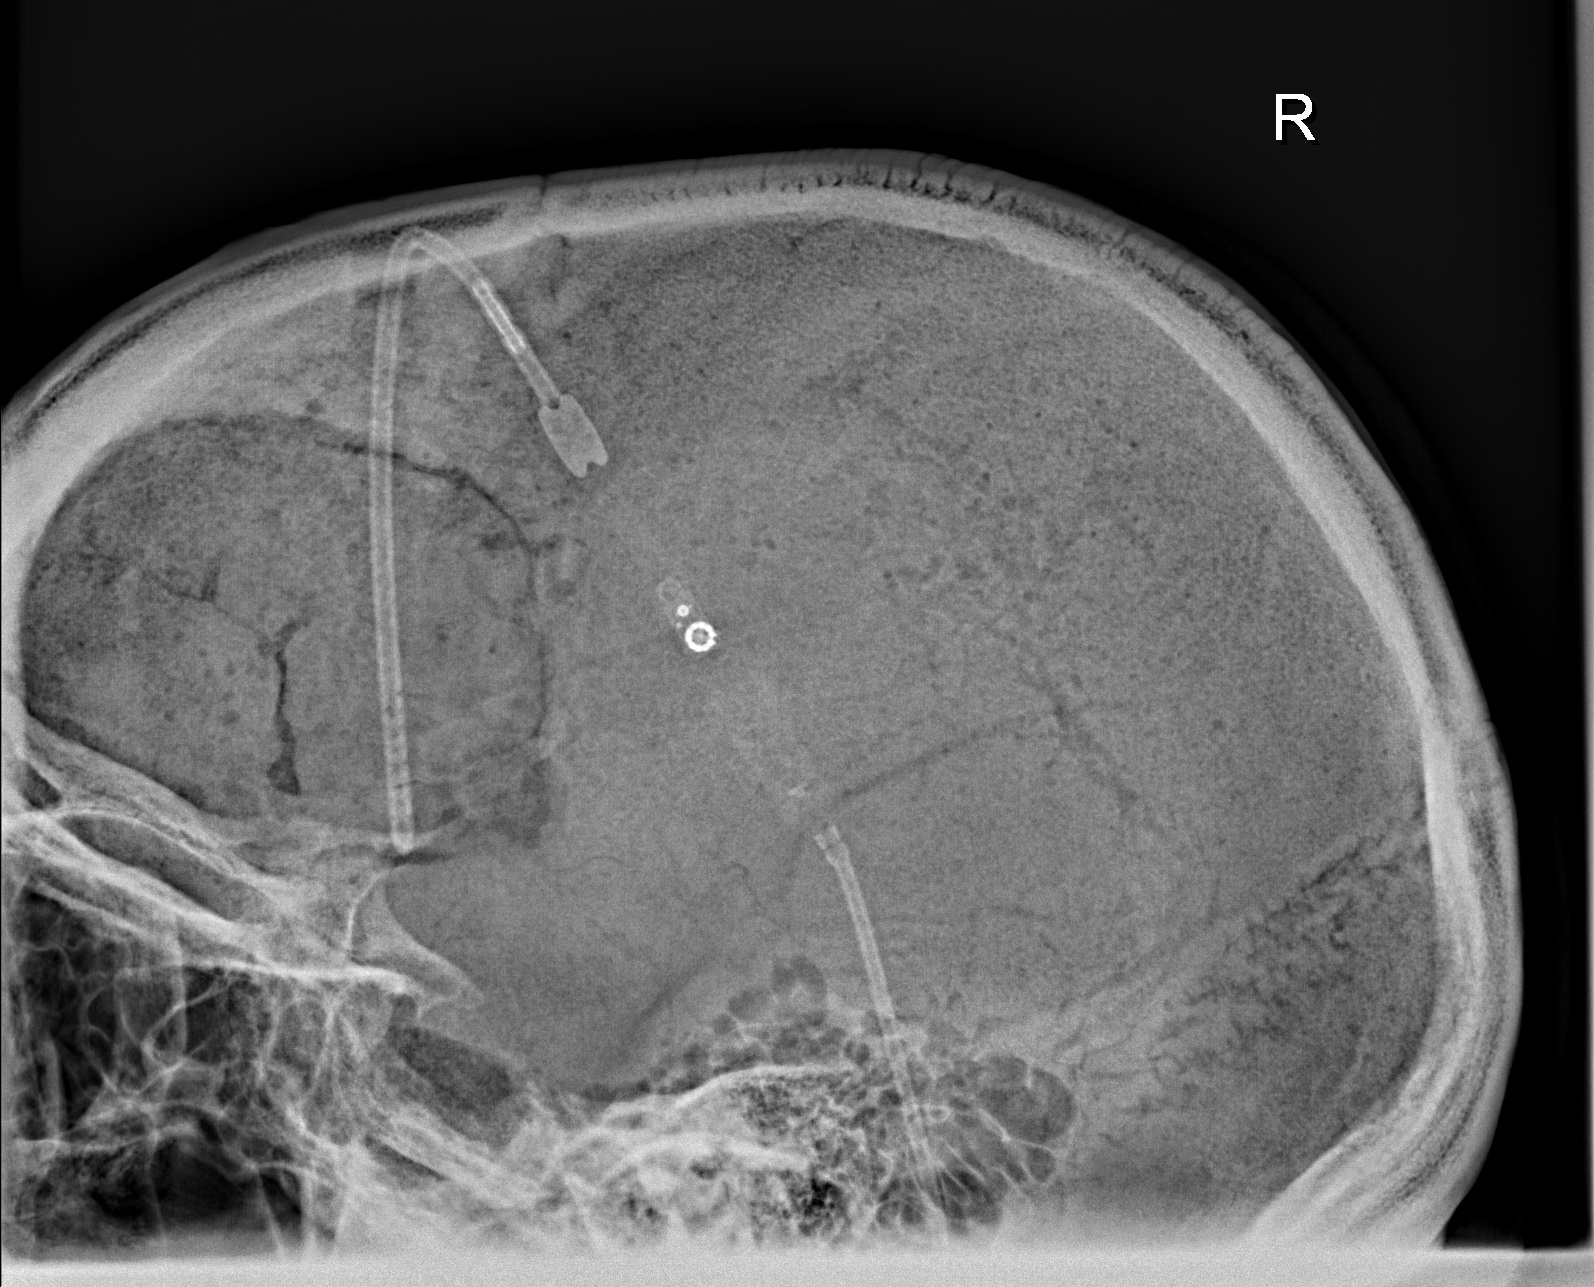Codman Hakim: (658, 594, 725, 676)
